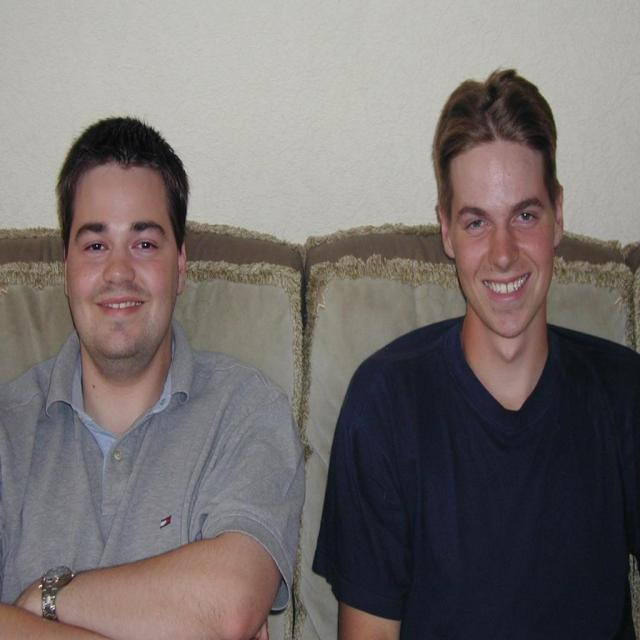Face: (439, 124, 564, 355), (56, 166, 187, 369)
